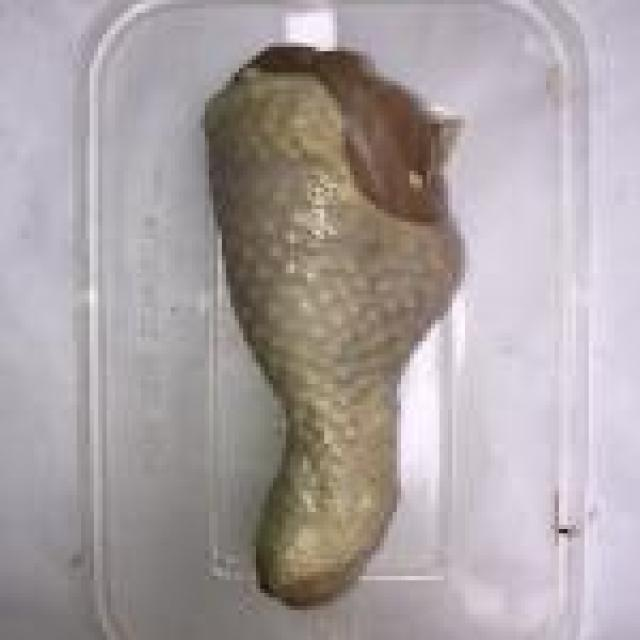leg: (205, 37, 468, 612)
